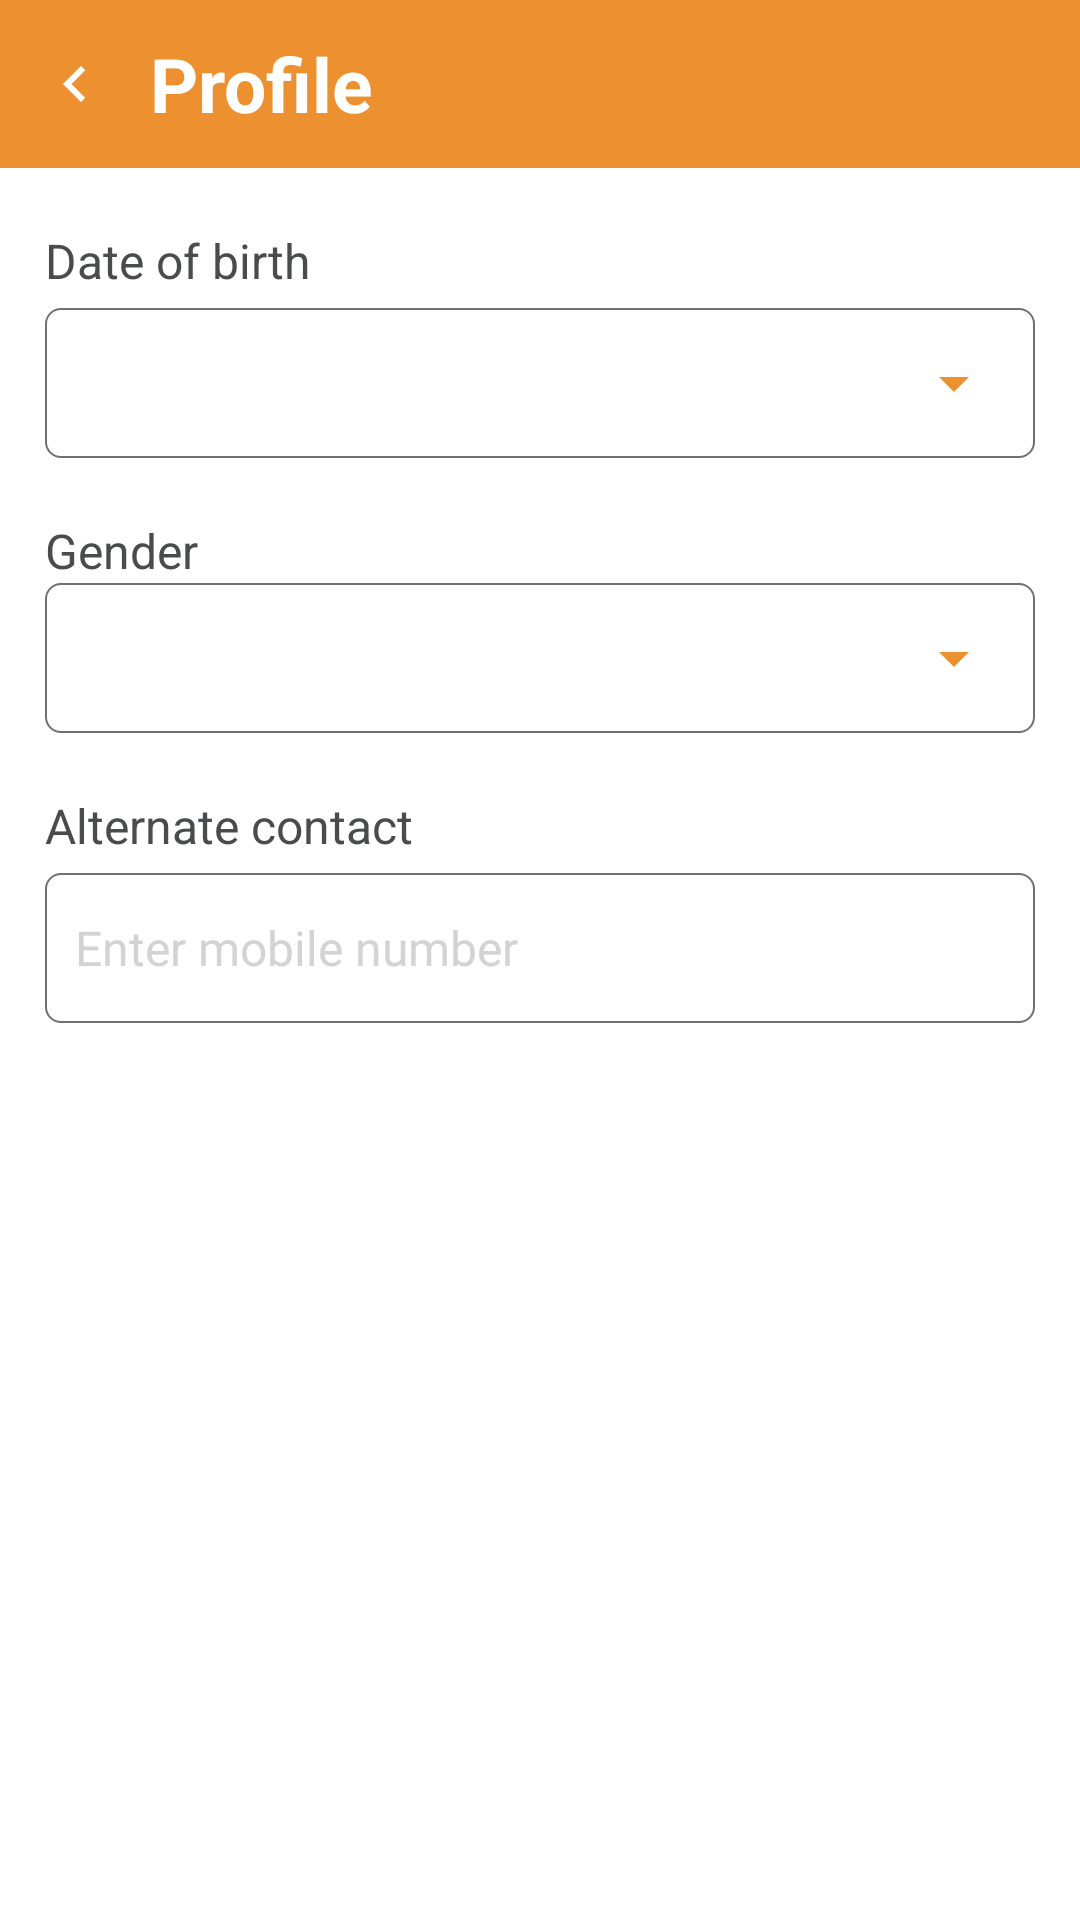

Where icons sit on this 1080 × 1920 app screen, as detection(x1, y1, x2, y2):
drop down: detection(939, 377, 969, 392), detection(939, 652, 969, 667)
navigation back: detection(63, 66, 85, 102)
